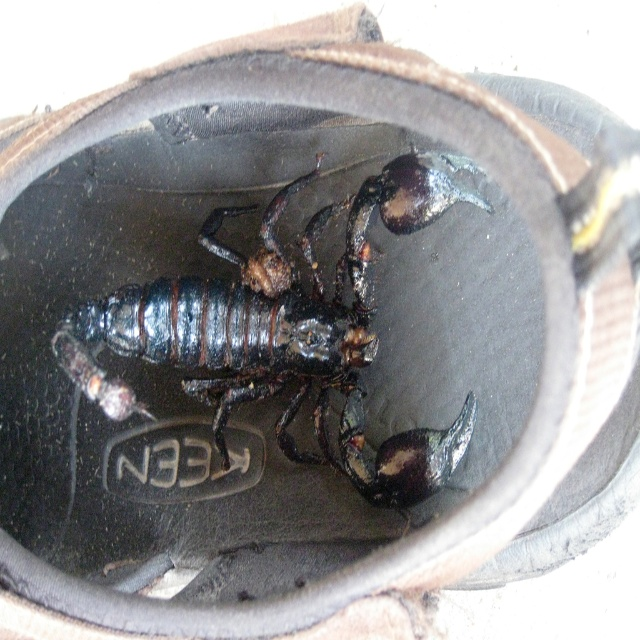Scorpion: (52, 143, 496, 529)
